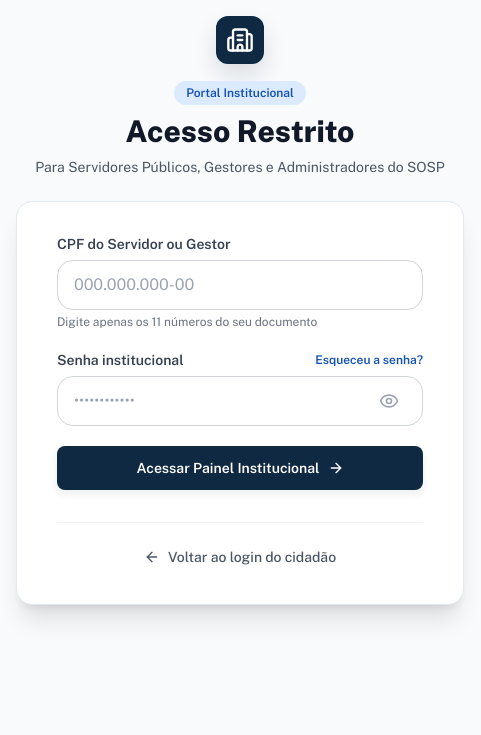
Test: Login Institucional (ADR-003, RN-35, RN-36) › deve rejeitar perfil desconhecido sem gravar token no localStorage nem redirecionar
In the field labelled "CPF do Servidor ou Gestor": (240, 285) top-left (57, 260), bottom-right (423, 310), type "777.888.999-41"
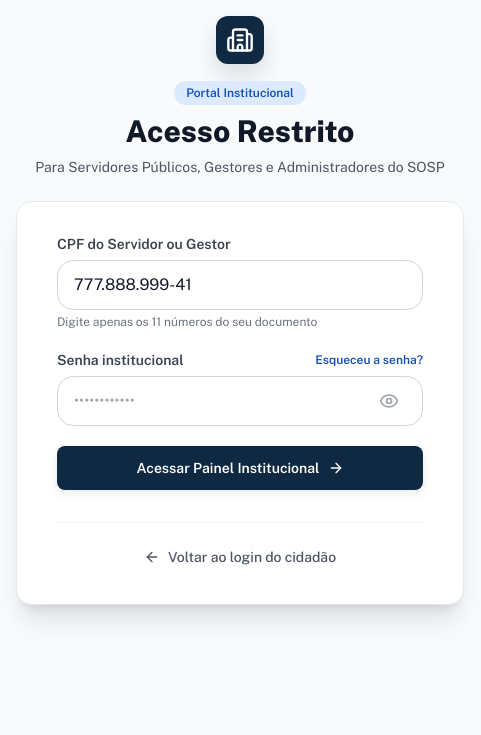
In the password field labelled "Senha institucional": (240, 401) top-left (57, 376), bottom-right (423, 426), type "SenhaForte@123"
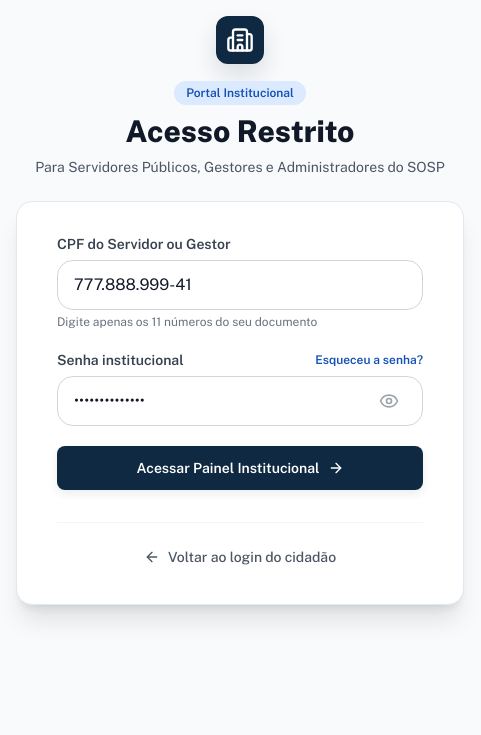
Click the button "Acessar Painel Institucional": (240, 468) top-left (57, 446), bottom-right (423, 490)
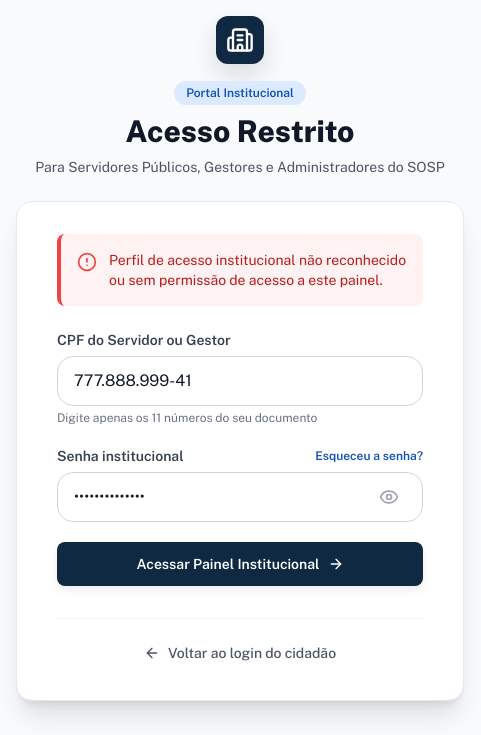
Check: the text "Perfil de acesso institucional não reconhecido" is shown, box top-left (109, 252), bottom-right (406, 288)
